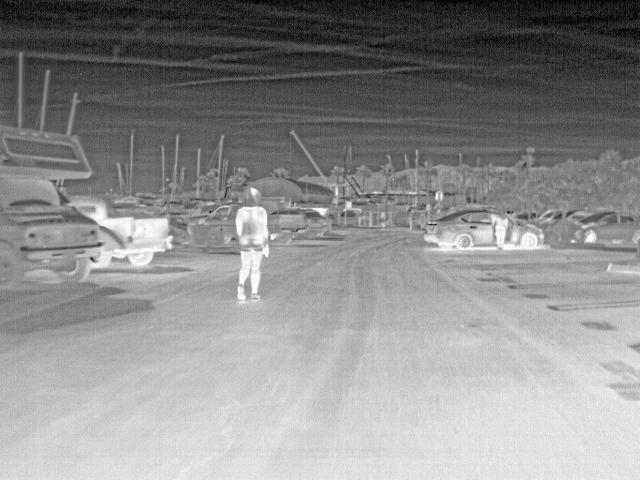car: (103, 201, 173, 270), (423, 208, 493, 251), (575, 210, 638, 250), (268, 208, 305, 242), (510, 221, 546, 251), (194, 203, 234, 224), (304, 208, 330, 234), (535, 207, 564, 223), (514, 210, 534, 221)
person: (231, 185, 270, 303), (493, 211, 510, 250)
